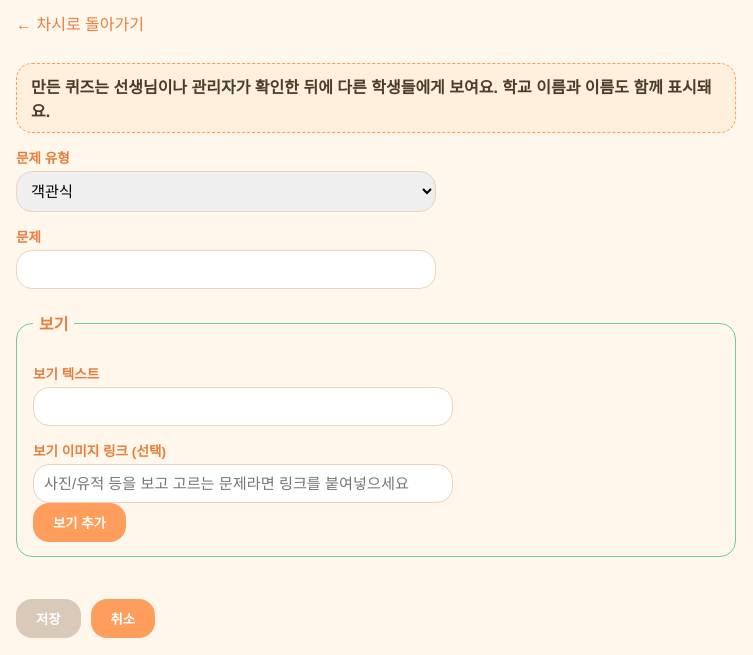
Test: StudentQuizSubmitPage › 제출에 실패하면 에러 메시지를 보여주고 폼이 유지된다
The width and height of the screenshot is (753, 655).
Select "OX" in the dropdown labelled "문제 유형". click: (226, 192)
box: [16,171,436,212]
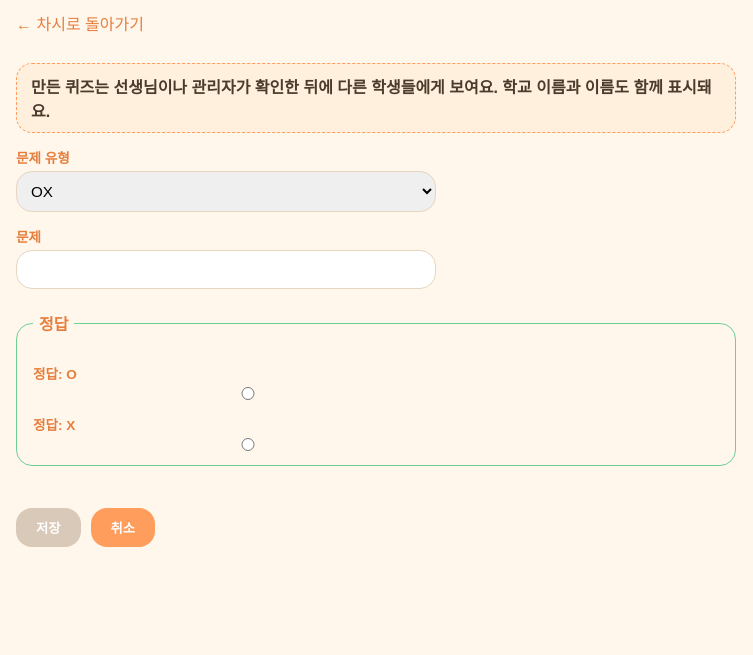
Type "문제" into the field labelled "문제". click: (226, 270)
box: [16,250,436,289]
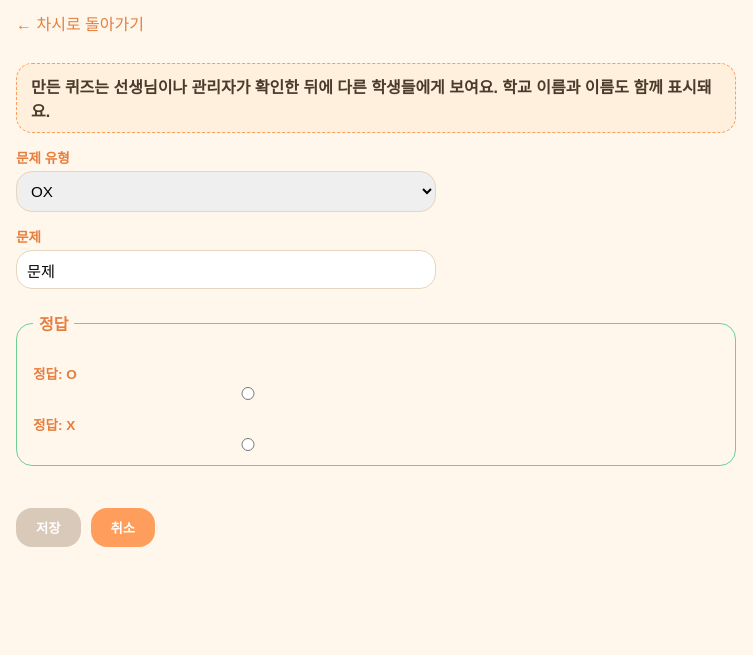
Click the radio button labelled "정답: O". click: (248, 394)
box: [38,387,458,400]
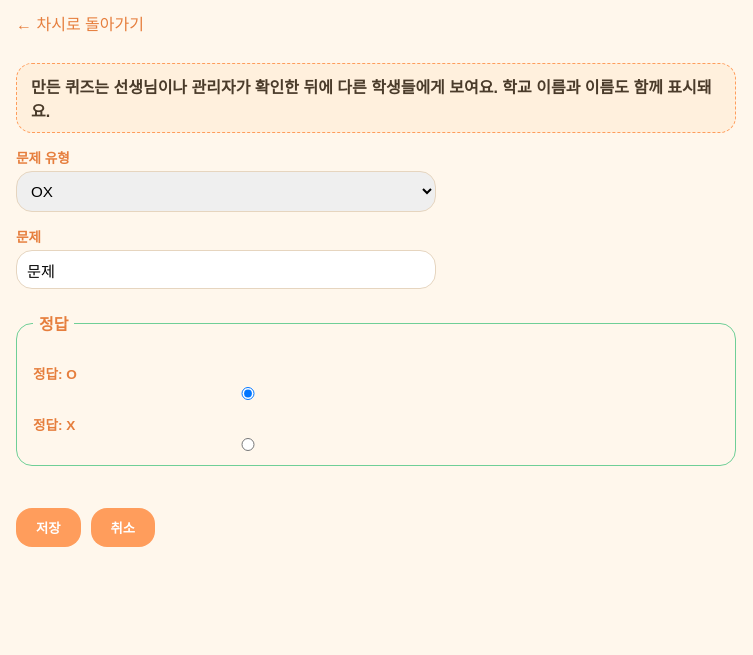
Click the button "저장". click: (48, 528)
box: [16,508,80,547]
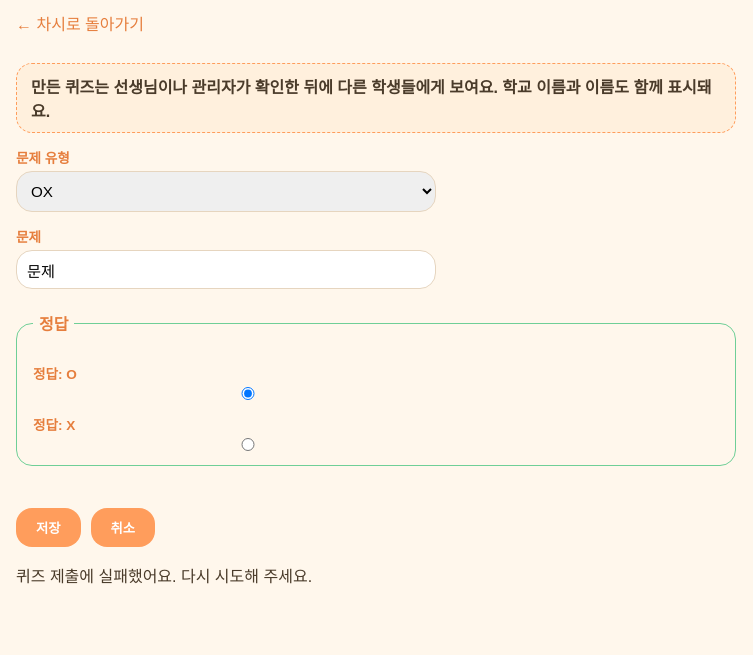
Check: the message shows "퀴즈 제출에 실패했어요", box [16,568,312,585]
